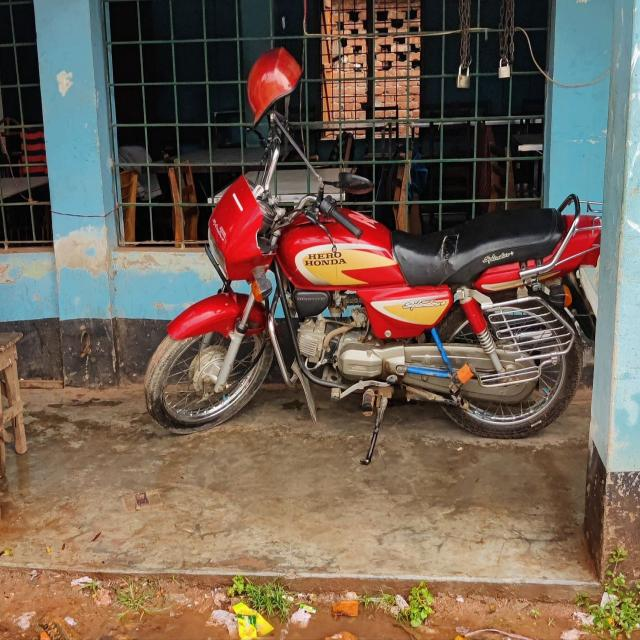Motorbike: (128, 47, 608, 470)
